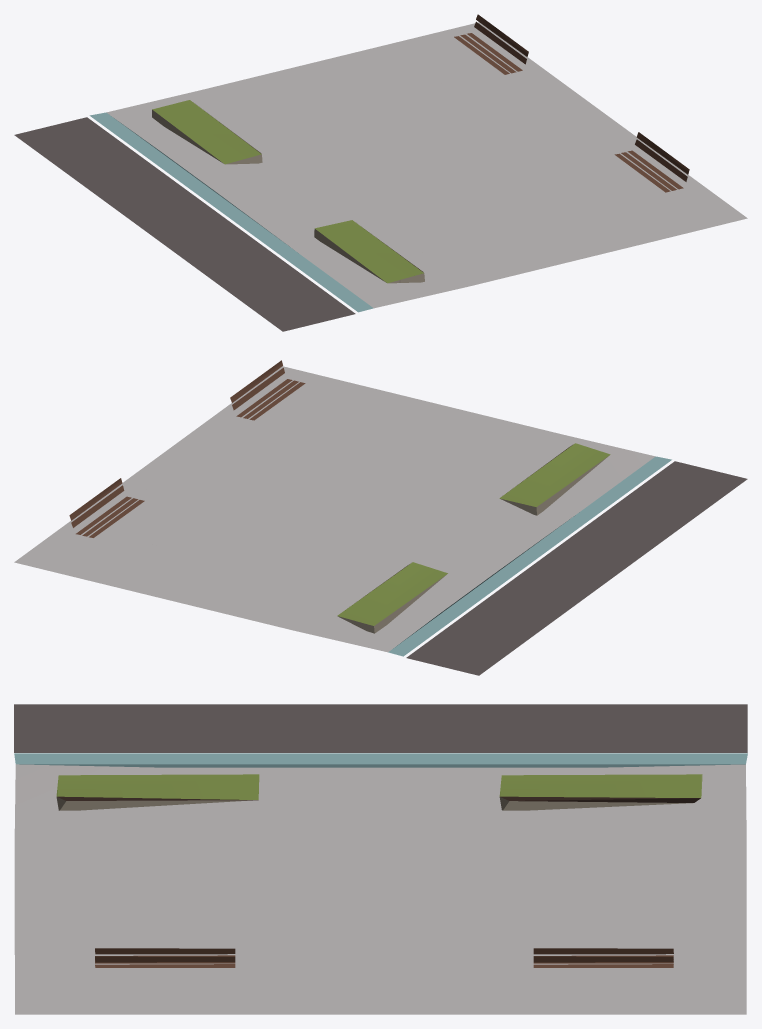
File: QmZUVKKrrCsmcVNT8hwvYFUsJb9kZ3br37zFYmNKidvAwB_lod2.fbx
3 renders of one model, top to bottom at view 1: azimuth 30°, elevation 25°; view 2: azimuth 150°, elevation 25°; view 3: azimuth 270°, elevation 25°, orthographic. The views are drawn at different scales.
Visible parts, largest first — view 1: Entity_512; view 2: Entity_512; view 3: Entity_512.
Boxes of the visible parts, x1,y1,x2,y2 form: Entity_512: (14,14,747,331); Entity_512: (14,360,747,675); Entity_512: (14,704,747,1014).
Size of the model in its own units: 15907 by 1157 by 15930.
Materials: 1 (1 with a texture image).
